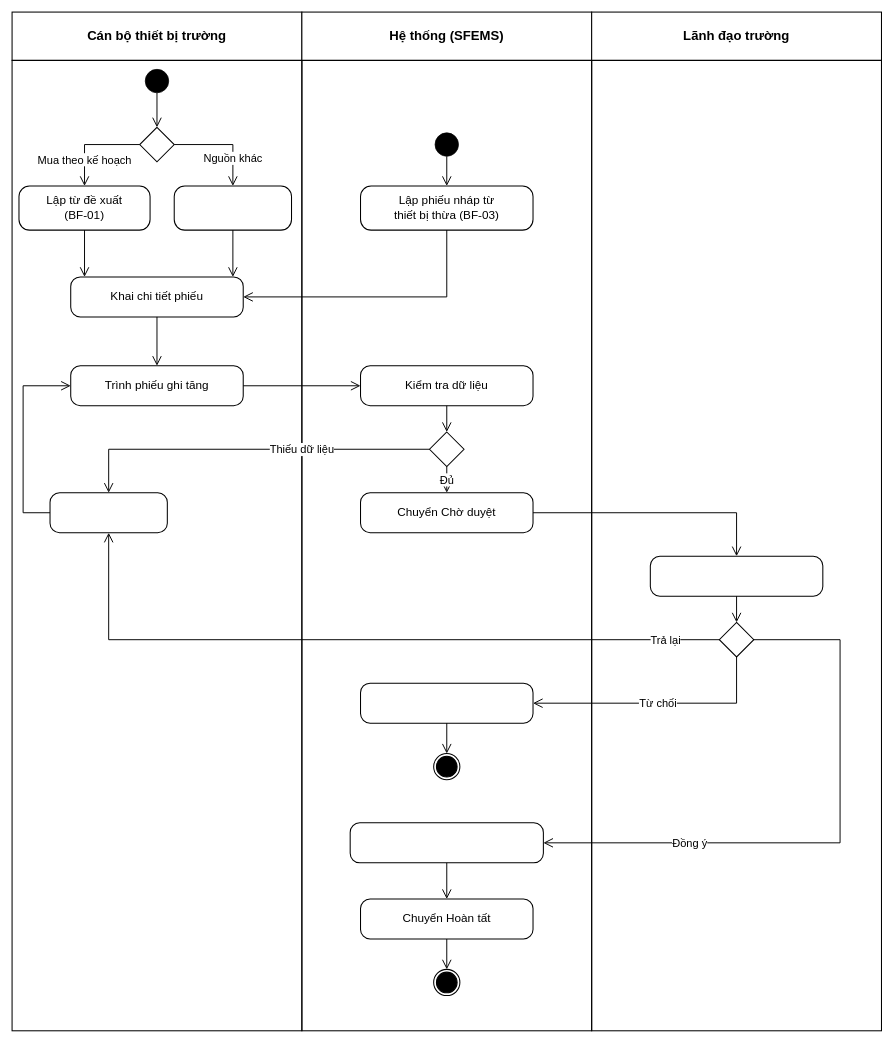
The diagram is 894 pixels wide and 1043 high, and some of its shapes have lost their labels. Here are the shapes that lost their labels. From the top down, the centre of each, then its label:
(232,207): Lập phiếu nguồn khác
(108,512): Sửa phiếu
(736,575): Xem xét phiếu ghi tăng
(446,702): Chuyển Bị từ chối
(446,842): Ghi tăng, sinh mã thiết bị
